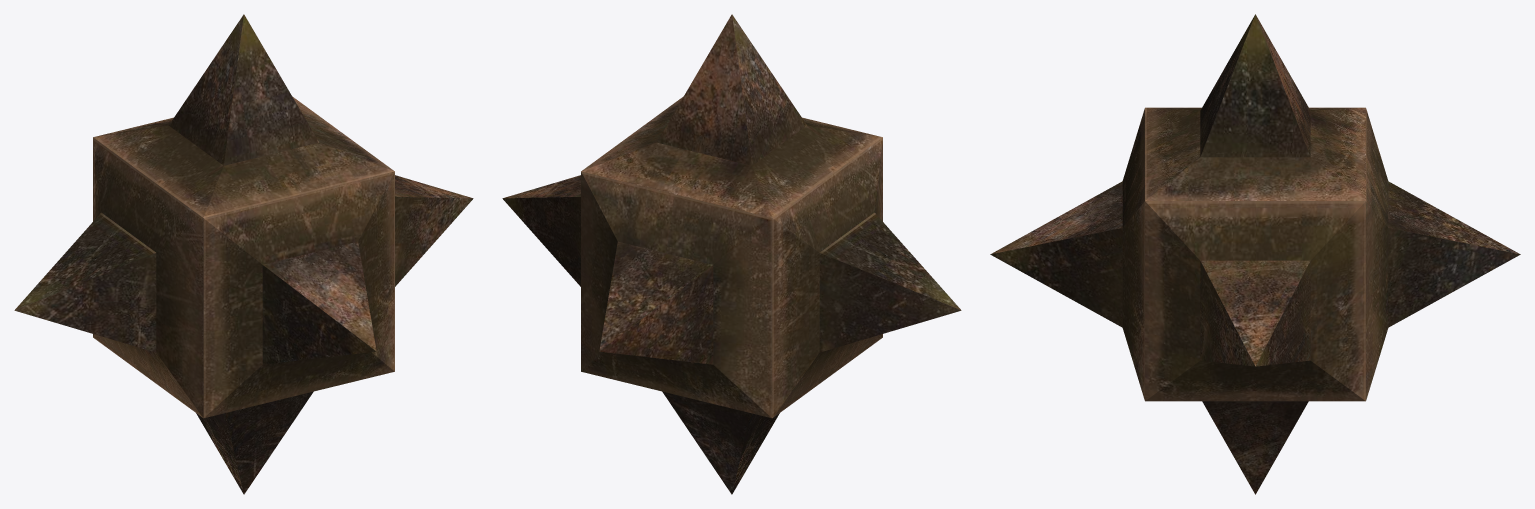
Rendered from Pincho.fbx.
3 views of the same model, side by side, from view 1: azimuth 30°, elevation 25°; view 2: azimuth 150°, elevation 25°; view 3: azimuth 270°, elevation 25° (orthographic).
Visible parts, largest first — view 1: Pincho; view 2: Pincho; view 3: Pincho.
Boxes of the visible parts, <box> form: Pincho: <box>14,14,473,494</box>; Pincho: <box>502,14,961,494</box>; Pincho: <box>990,14,1520,494</box>.
Size of the model in its own units: 665 by 665 by 665.
1 material, 1 textured.
